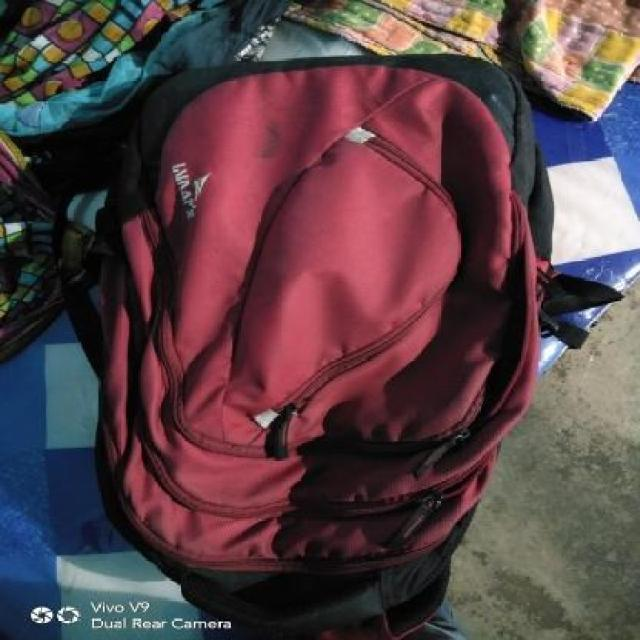backpack: (60, 46, 594, 640)
